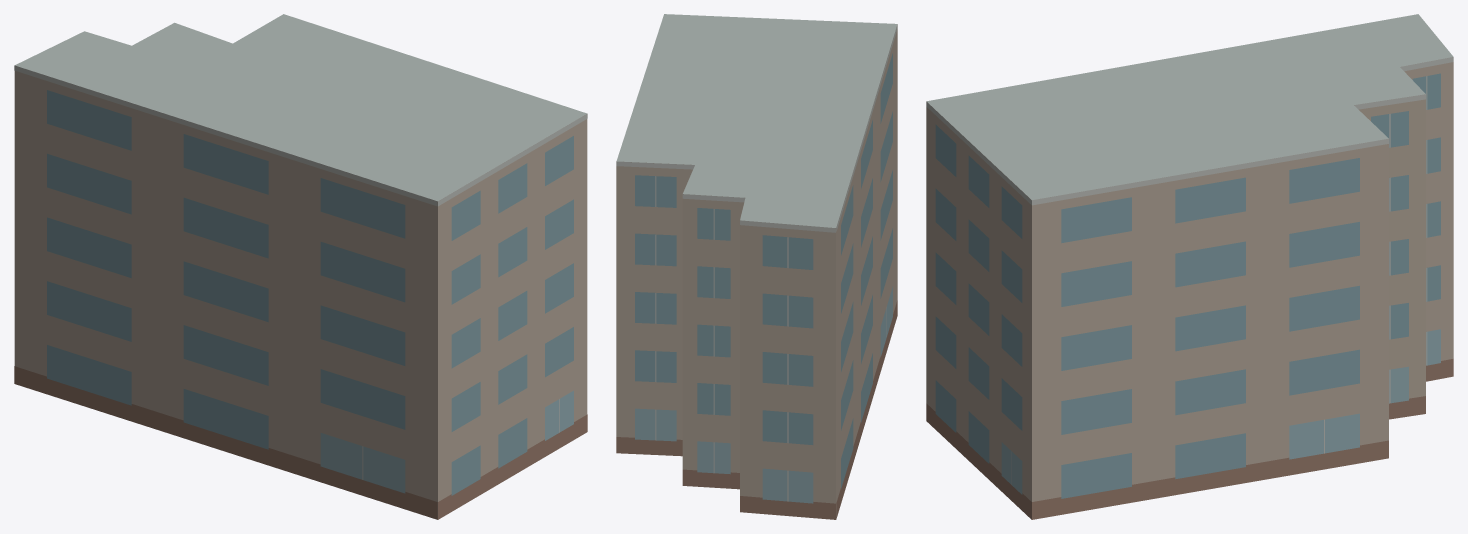
Rendered from survey-upis-33028075.glb.
The picture shows the model from 3 angles, left to right: view 1: azimuth 30°, elevation 25°; view 2: azimuth 150°, elevation 25°; view 3: azimuth 270°, elevation 25°; orthographic projection. The views are drawn at different scales.
Parts seen in each view (by area): view 1: survey-upis-33028075.tmp; view 2: survey-upis-33028075.tmp; view 3: survey-upis-33028075.tmp.
Part boxes in pixels (x1,y1,x2,y2): survey-upis-33028075.tmp: (14, 14, 587, 519); survey-upis-33028075.tmp: (616, 14, 897, 519); survey-upis-33028075.tmp: (926, 14, 1453, 519).
Bounding box in the file's own units: 18.88 × 15.1 × 22.59.
